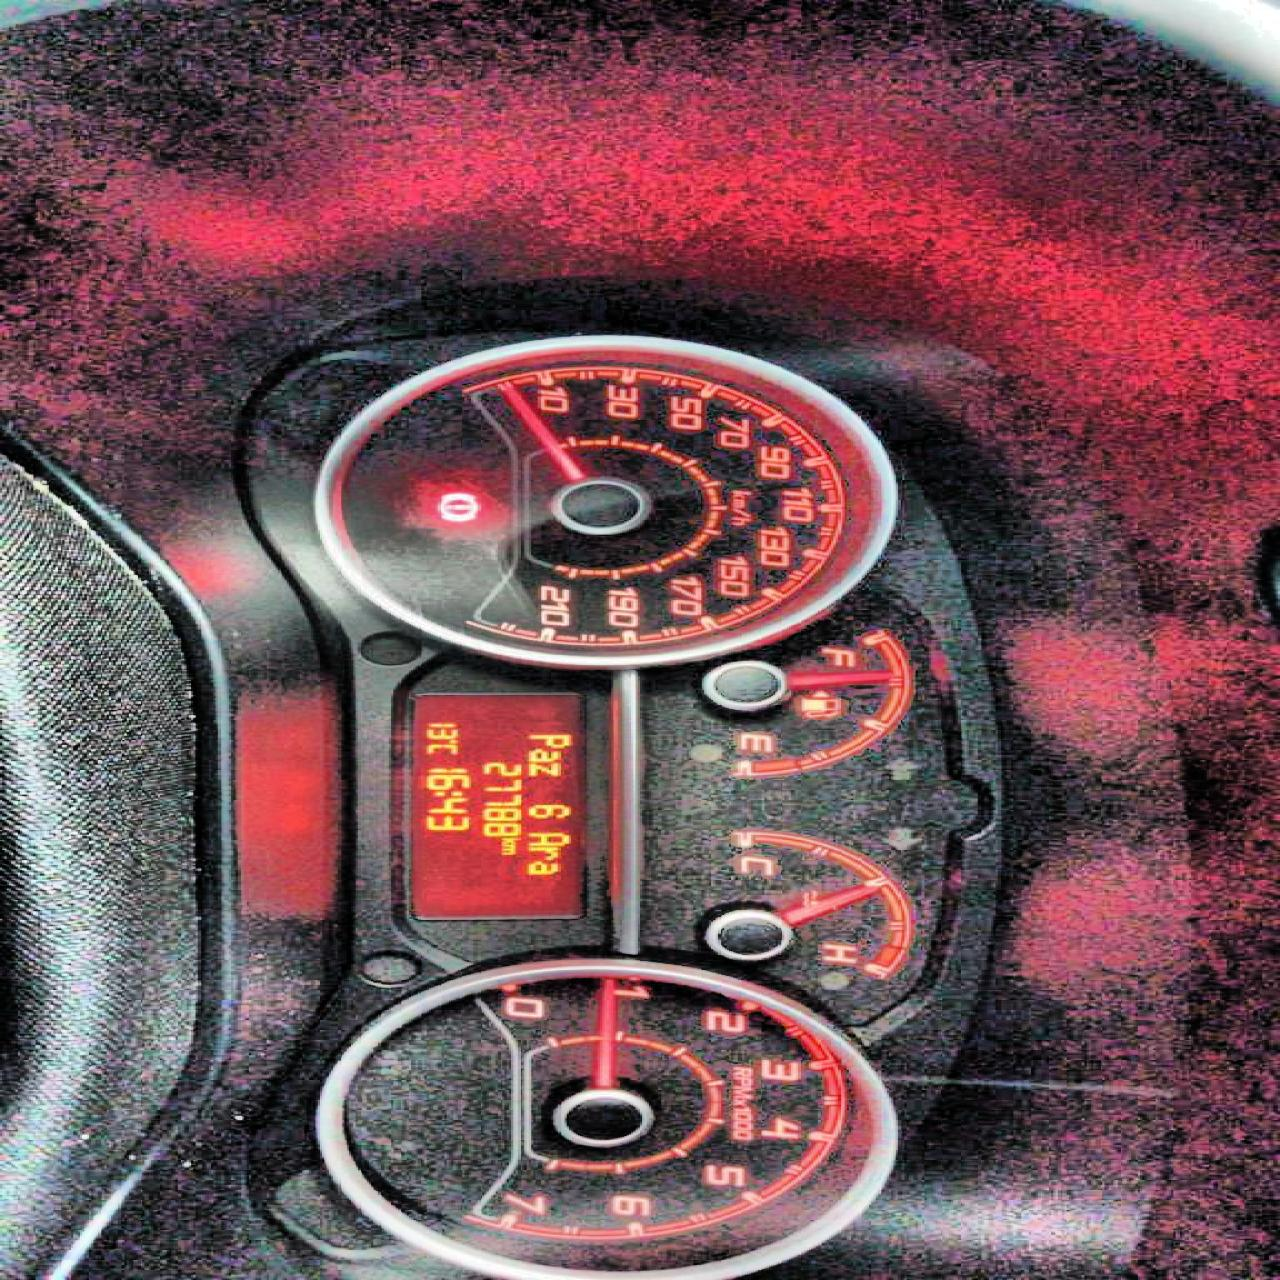1: (424, 767, 469, 772), (422, 722, 456, 728)
2: (478, 760, 520, 776)
3: (420, 813, 471, 830), (422, 728, 458, 738)
4: (422, 796, 467, 813)
6: (522, 802, 571, 818), (422, 774, 469, 789)
7: (481, 777, 522, 792), (481, 792, 520, 806)
8: (478, 806, 520, 822), (481, 822, 518, 837)
X: (524, 731, 568, 748), (523, 830, 568, 845), (524, 845, 558, 860), (524, 762, 560, 776), (524, 748, 560, 762), (524, 860, 558, 874), (422, 743, 456, 755), (496, 836, 520, 844), (496, 844, 513, 855), (431, 790, 462, 796)
odometer: (395, 686, 598, 925)
